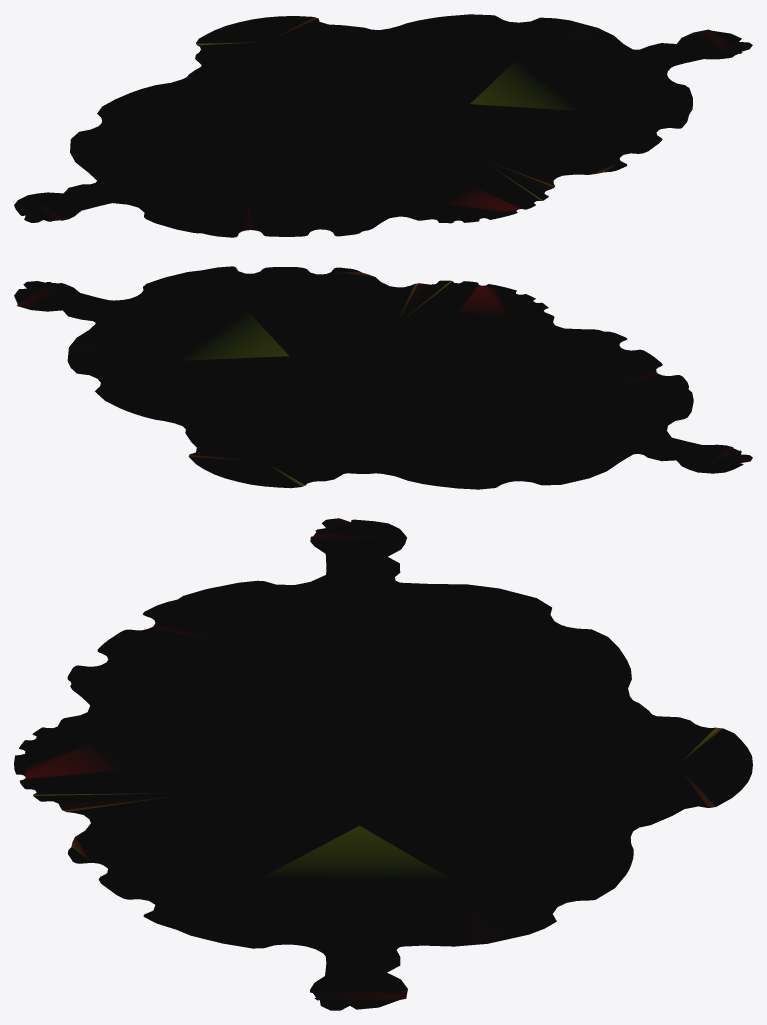
Rendered from pref_sm_beach_techsmall_001_navmesh_air_lv3.fbx.
3 renders of one model, top to bottom at view 1: azimuth 30°, elevation 25°; view 2: azimuth 150°, elevation 25°; view 3: azimuth 270°, elevation 25°, orthographic. The views are drawn at different scales.
Parts seen in each view (by area): view 1: pref_sm_beach_techsmall_001_navmesh_air_lv3; view 2: pref_sm_beach_techsmall_001_navmesh_air_lv3; view 3: pref_sm_beach_techsmall_001_navmesh_air_lv3.
Boxes of the visible parts, x1,y1,x2,y2 form: pref_sm_beach_techsmall_001_navmesh_air_lv3: (14,14,752,237); pref_sm_beach_techsmall_001_navmesh_air_lv3: (14,266,752,489); pref_sm_beach_techsmall_001_navmesh_air_lv3: (14,518,752,1010).
Bounding box in the file's own units: 133 × 3.8e-05 × 84.15.
